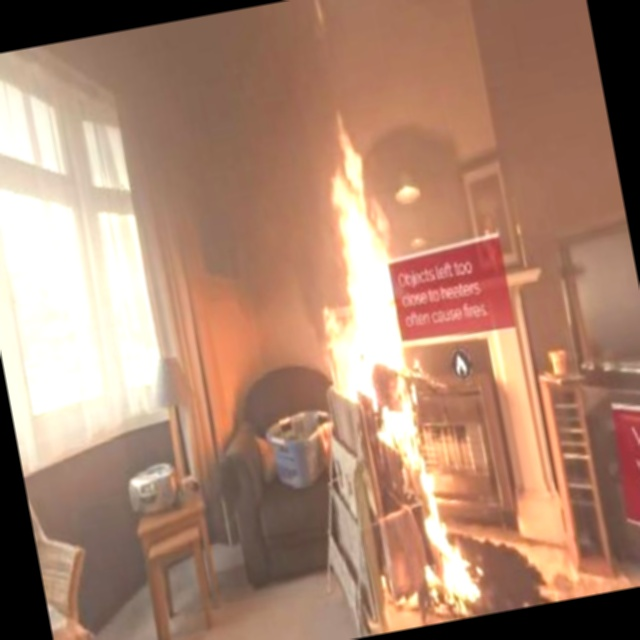fire: (278, 104, 412, 386)
